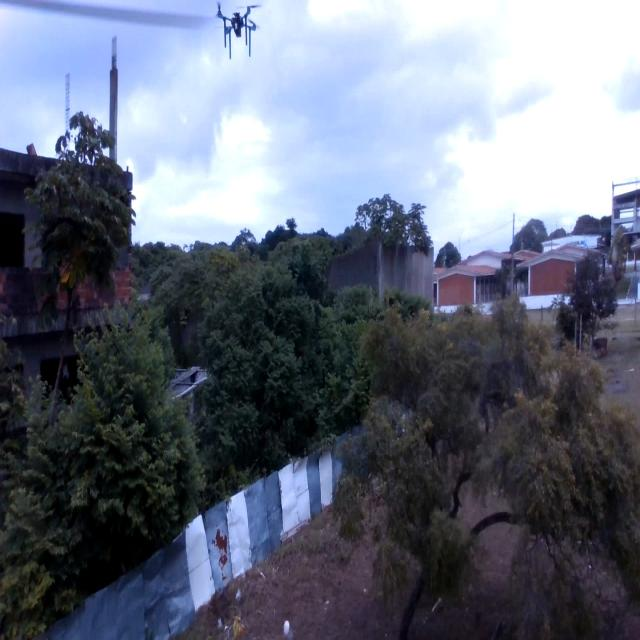-uav-: (209, 0, 264, 67)
